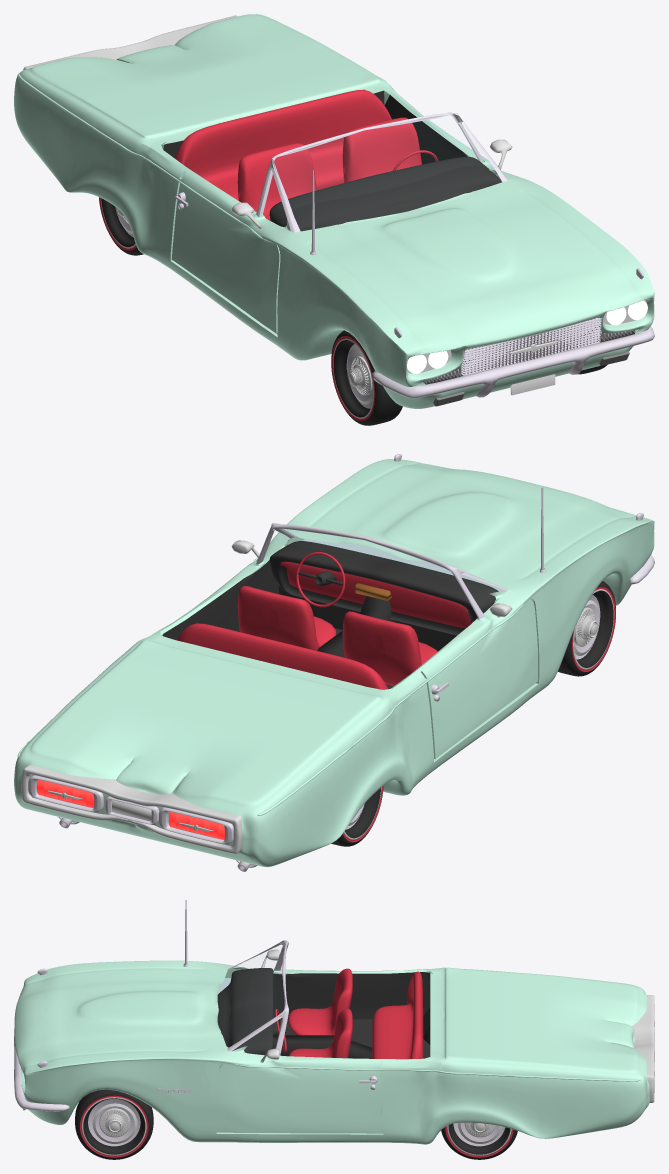
File: ford__thunderbird.glb
3 renders of one model, top to bottom at view 1: azimuth 30°, elevation 25°; view 2: azimuth 150°, elevation 25°; view 3: azimuth 270°, elevation 25°, orthographic. The views are drawn at different scales.
Parts seen in each view (by area): view 1: Cube.001, Cube.014, Cube.017, Cube.004, Wheels, Cube.002, Cube.016, Cube.011, Cube.007, Cylinder, Cylinder.003, Cube.015 (+1 smaller); view 2: Cube.001, Cube.017, Cube.004, Cube.014, Cube.011, Wheels, Cube.006, Cube.018, Cube.013, Plane.001, Cube.015, Cylinder.003; view 3: Cube.001, Wheels, Cube.017, Cube.014, Cube.004, Cube.011, Cube.013, Cylinder.003, Cube.015, Cube.002, Cylinder.009.
Boxes of the visible parts, <box> form: Cube.001: <box>14,14,654,408</box>; Cube.014: <box>175,89,391,200</box>; Cube.017: <box>269,157,501,231</box>; Cube.004: <box>237,117,421,220</box>; Wheels: <box>99,197,607,425</box>; Cube.002: <box>372,326,654,398</box>; Cube.016: <box>461,317,601,375</box>; Cube.011: <box>23,15,237,69</box>; Cube.007: <box>461,317,598,374</box>; Cylinder: <box>407,300,647,373</box>; Cylinder.003: <box>346,349,373,404</box>; Cube.015: <box>17,73,501,242</box>; Cube.001: <box>14,459,654,867</box>; Cube.017: <box>269,541,498,635</box>; Cube.004: <box>237,585,437,685</box>; Cube.014: <box>177,623,387,689</box>; Cube.011: <box>21,764,242,853</box>; Wheels: <box>331,581,615,846</box>; Cube.006: <box>28,775,233,844</box>; Cube.018: <box>36,779,224,839</box>; Cube.013: <box>317,596,394,657</box>; Plane.001: <box>302,539,506,591</box>; Cube.015: <box>17,557,523,815</box>; Cylinder.003: <box>574,600,599,655</box>; Cube.001: <box>14,940,649,1144</box>; Wheels: <box>75,1089,517,1159</box>; Cube.017: <box>217,968,273,1055</box>; Cube.014: <box>372,971,423,1059</box>; Cube.004: <box>288,968,352,1058</box>; Cube.011: <box>632,995,654,1102</box>; Cube.013: <box>272,1035,372,1058</box>; Cylinder.003: <box>92,1103,137,1143</box>; Cube.015: <box>233,1064,640,1081</box>; Cube.002: <box>14,1028,69,1111</box>; Cylinder.009: <box>458,1122,502,1143</box>.
Size of the model in its own units: 2.77 by 2.1 by 7.11.
